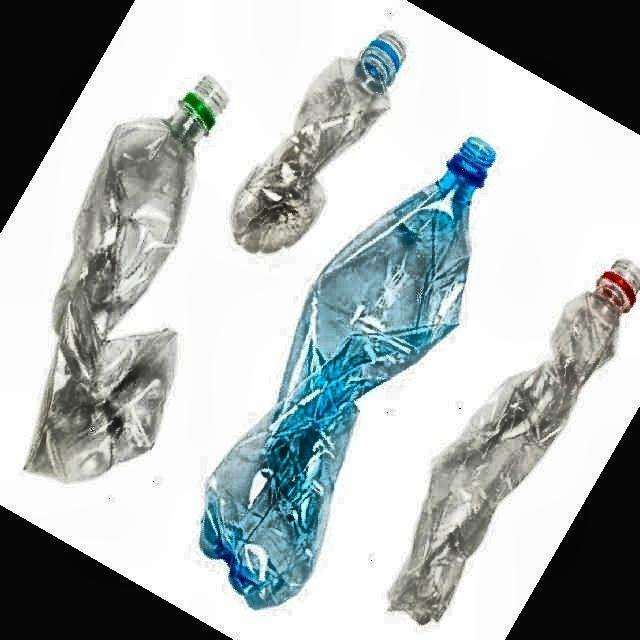plastic: (200, 139, 495, 608), (389, 261, 639, 622), (25, 76, 228, 481), (231, 34, 405, 252)
